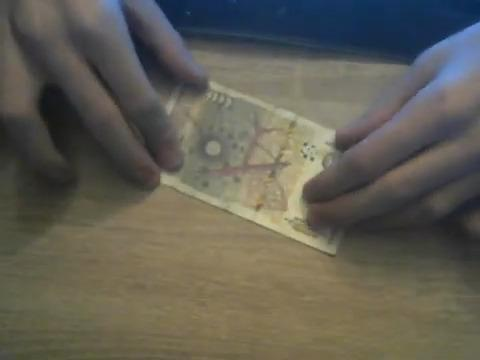10leva: (161, 82, 340, 257)
